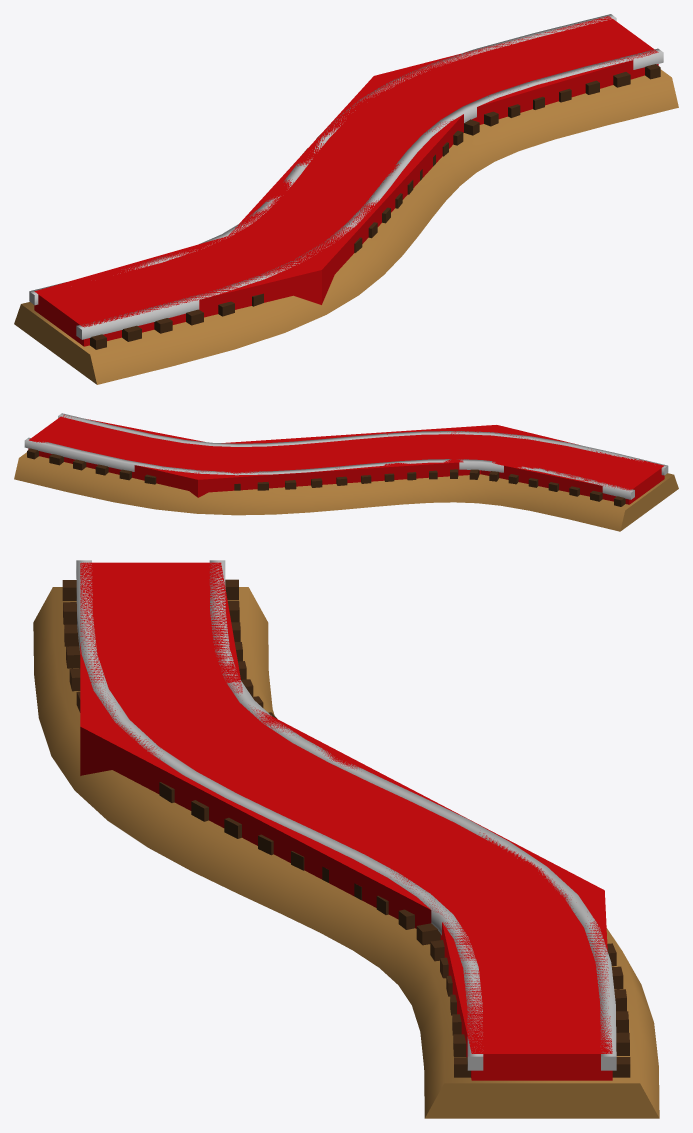
Rendered from sbend_left.fbx.
3 views of the same model, one above another, from view 1: azimuth 30°, elevation 25°; view 2: azimuth 150°, elevation 25°; view 3: azimuth 270°, elevation 25° (orthographic). The views are drawn at different scales.
Parts seen in each view (by area): view 1: boundingBox, rails; view 2: rails, boundingBox; view 3: boundingBox, rails.
Boxes of the visible parts, box(x1,y1,x2,y2) form: boundingBox: box(34, 16, 658, 346); rails: box(14, 14, 678, 384); rails: box(14, 413, 678, 531); boundingBox: box(28, 414, 664, 504); boundingBox: box(80, 562, 612, 1080); rails: box(33, 560, 659, 1118).
Bounding box in the file's own units: 600 × 35 × 320.
